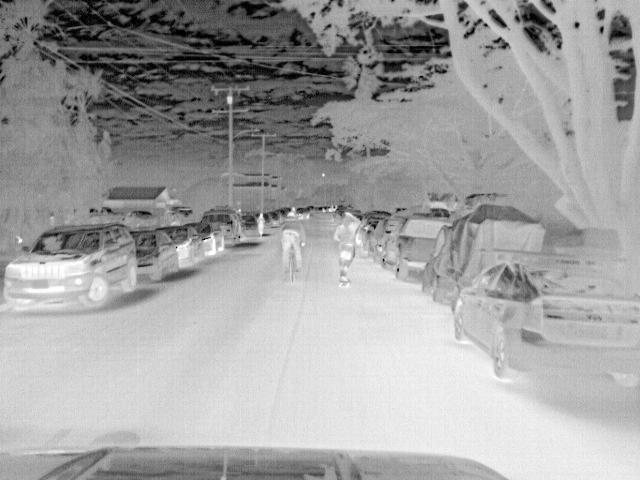car: (449, 254, 639, 385), (421, 206, 548, 304), (3, 223, 138, 310), (393, 214, 458, 278), (129, 230, 181, 281), (161, 224, 205, 268), (202, 209, 244, 249), (368, 218, 399, 264), (187, 225, 222, 255), (123, 210, 158, 227), (239, 213, 258, 234), (293, 206, 310, 220), (260, 212, 273, 226)
person: (331, 208, 362, 276), (278, 212, 304, 276), (253, 210, 265, 241)
